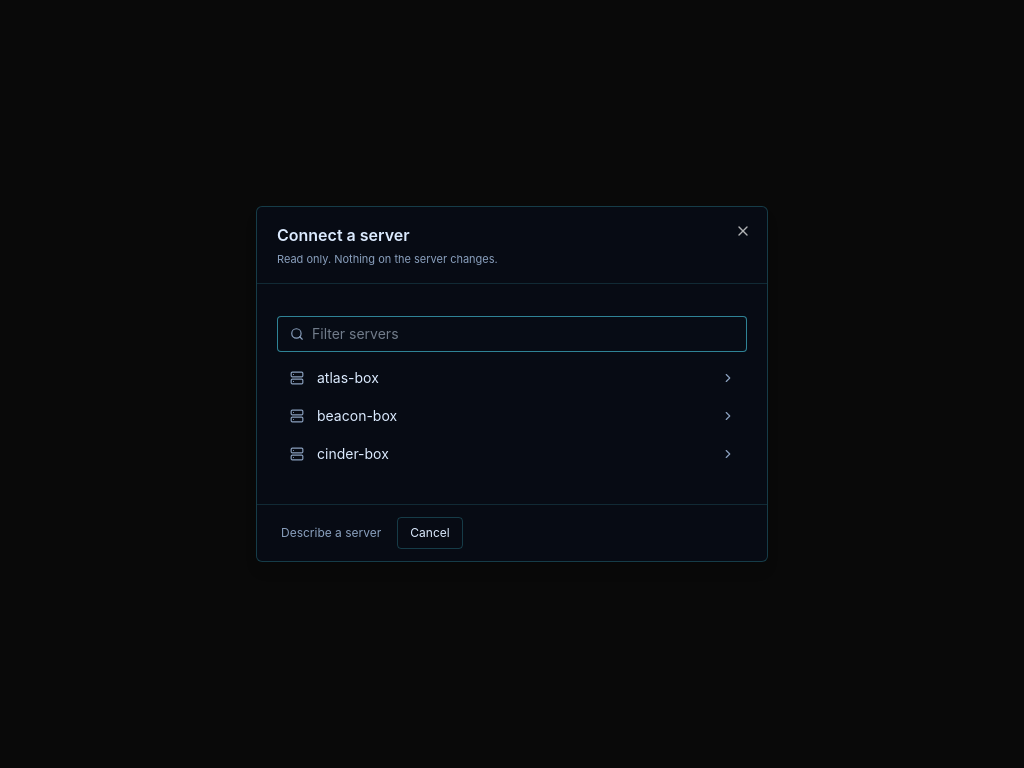
Test case: Connect: testing in place › tries a failed server again from its own row
Click the button "atlas-box". click: (348, 378)
box: [277,360,747,396]
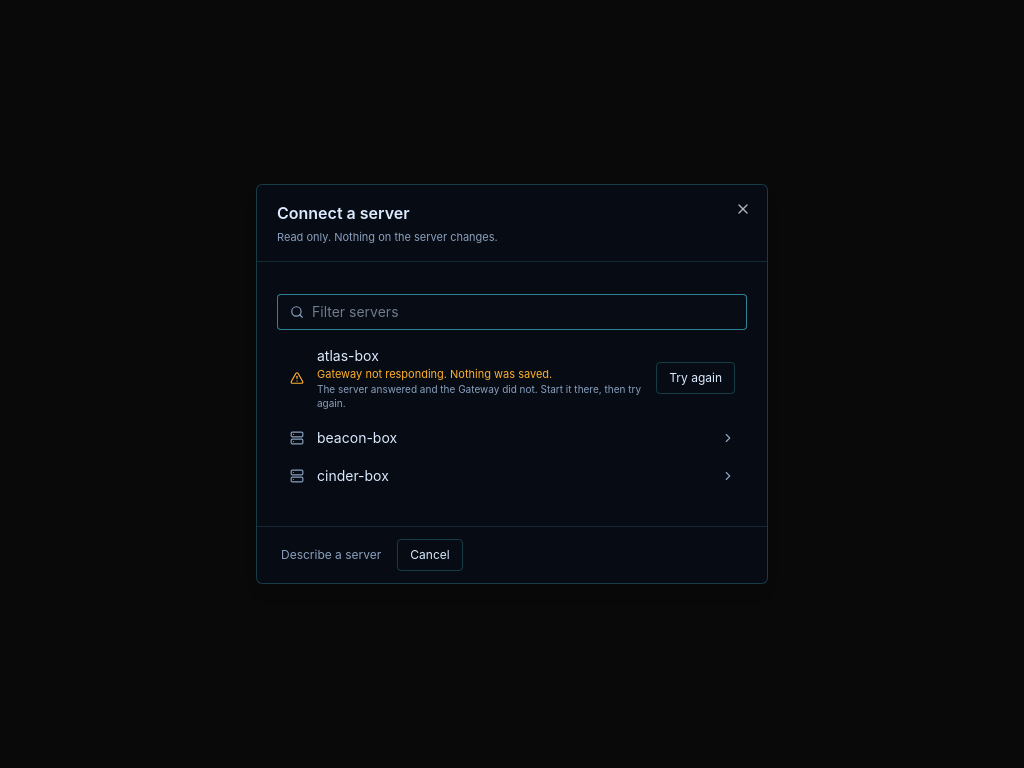
Click the button "Try again". click: (696, 378)
box: [656,362,735,394]
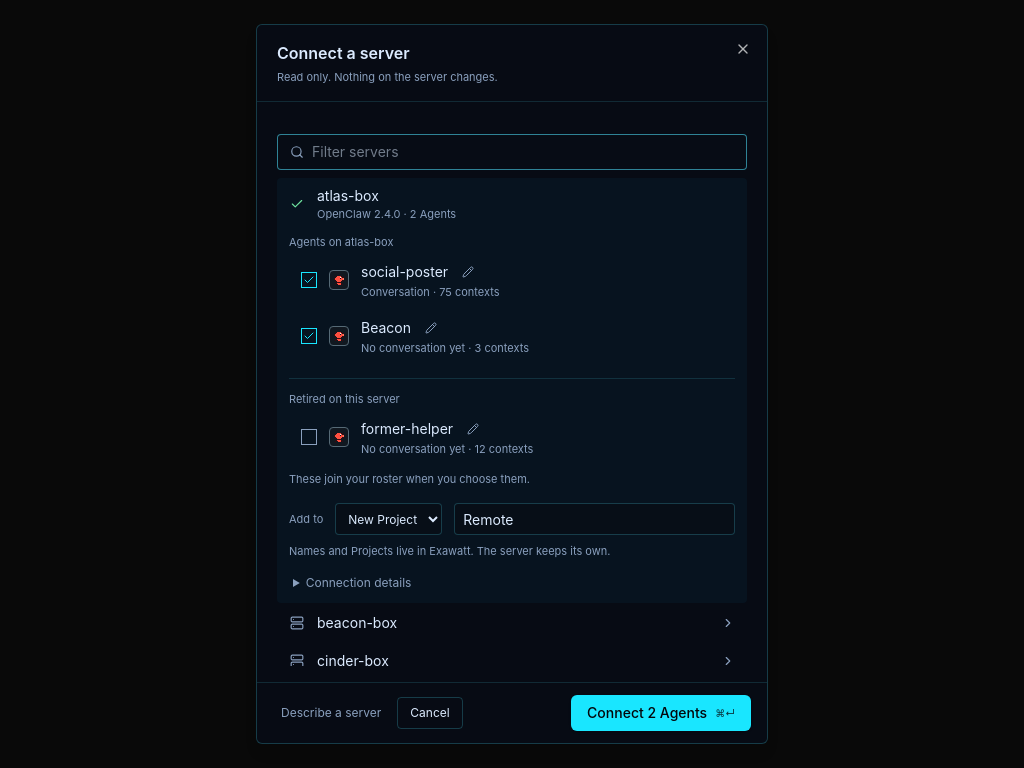
Check: the heading "Agents on atlas-box" is shown, box [289,235,393,249]
